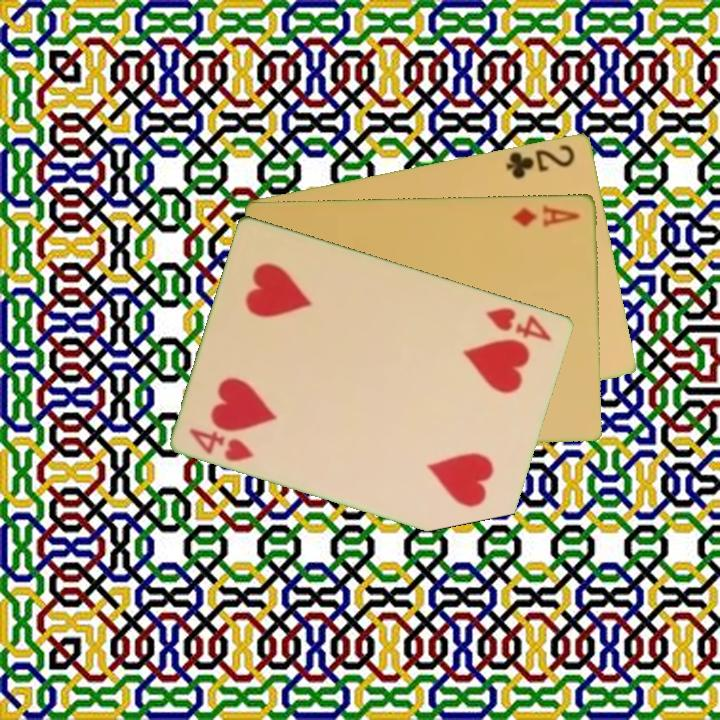2c: (502, 140, 578, 182)
4h: (482, 303, 555, 344), (185, 424, 257, 464)
Ad: (509, 201, 583, 230)
